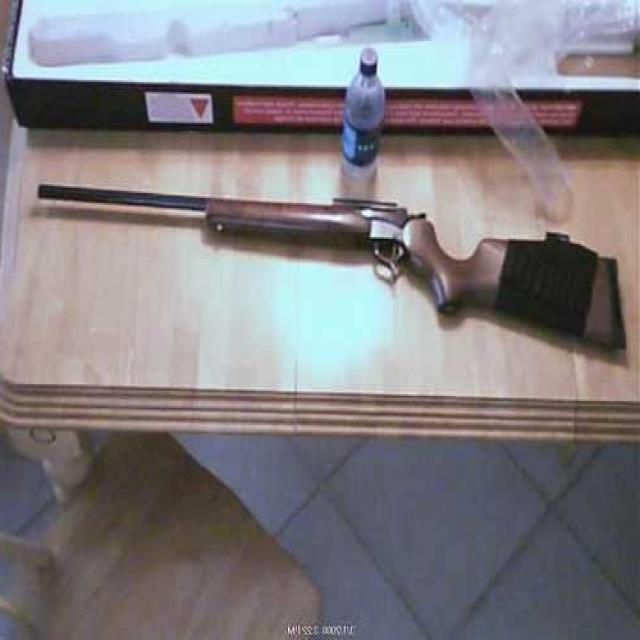heavyweapon: (43, 168, 619, 419)
